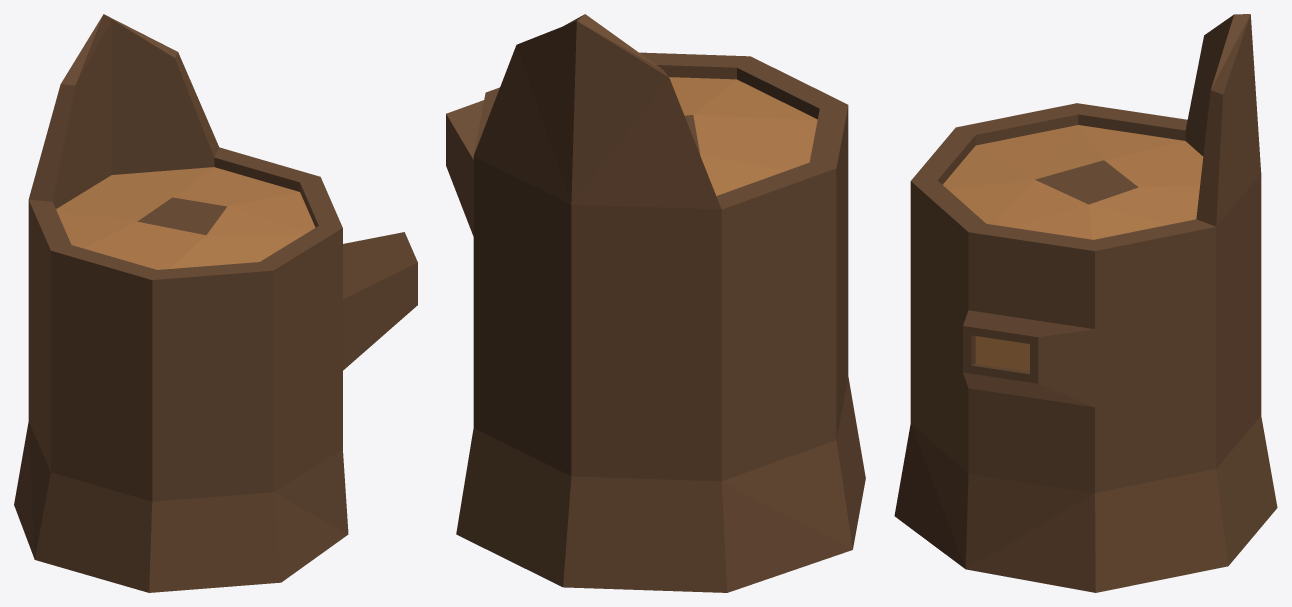
File: trunk2.gltf
The picture shows the model from 3 angles, left to right: view 1: azimuth 30°, elevation 25°; view 2: azimuth 150°, elevation 25°; view 3: azimuth 270°, elevation 25°; orthographic projection. The views are drawn at different scales.
Parts seen in each view (by area): view 1: Stump1_Stump1_1_0, Stump1_Stump1_2_0; view 2: Stump1_Stump1_1_0, Stump1_Stump1_2_0; view 3: Stump1_Stump1_1_0, Stump1_Stump1_2_0.
Boxes of the visible parts, left/top/right/bottom form: Stump1_Stump1_1_0: left=14, top=14, right=417, bottom=592; Stump1_Stump1_2_0: left=56, top=167, right=315, bottom=269; Stump1_Stump1_1_0: left=446, top=14, right=865, bottom=592; Stump1_Stump1_2_0: left=669, top=77, right=817, bottom=195; Stump1_Stump1_1_0: left=894, top=14, right=1277, bottom=592; Stump1_Stump1_2_0: left=943, top=125, right=1203, bottom=371.
Bounding box in the file's own units: 2.03 × 2.51 × 1.76.
